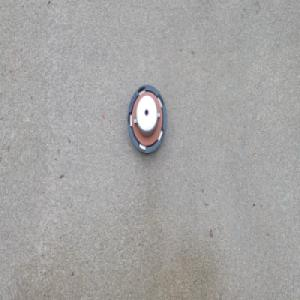FuelCap: (125, 81, 167, 155)
